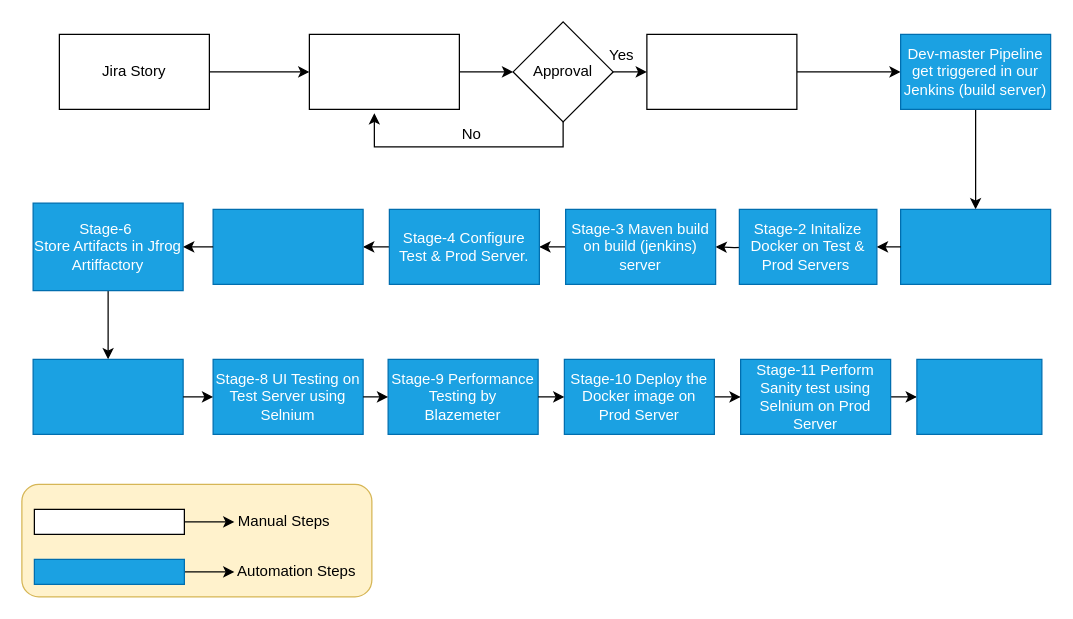
Image size: 1073x619. Some labels were removed from this diagram. The shapes that lost their labels are listed below. From the top down, each one's box as (x1, y1, x2, y2) in pixels, then its label:
(308, 33, 459, 109): Modify the Code and commit the changes to feature branch in Github
(646, 33, 797, 109): Merge from feature branch to master
(212, 208, 363, 284): Stage-5 Package the project
(899, 208, 1051, 284): Stage-1 SonarQube Static code analysis
(32, 358, 183, 434): Stage-7 Deploy to docker image from dockerhub to Test server
(916, 358, 1042, 434): Stage-12 Monitor
